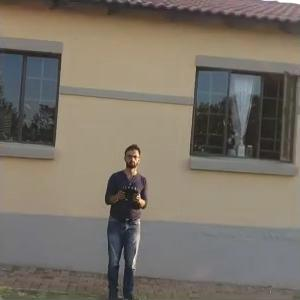follow: (100, 139, 151, 298)
